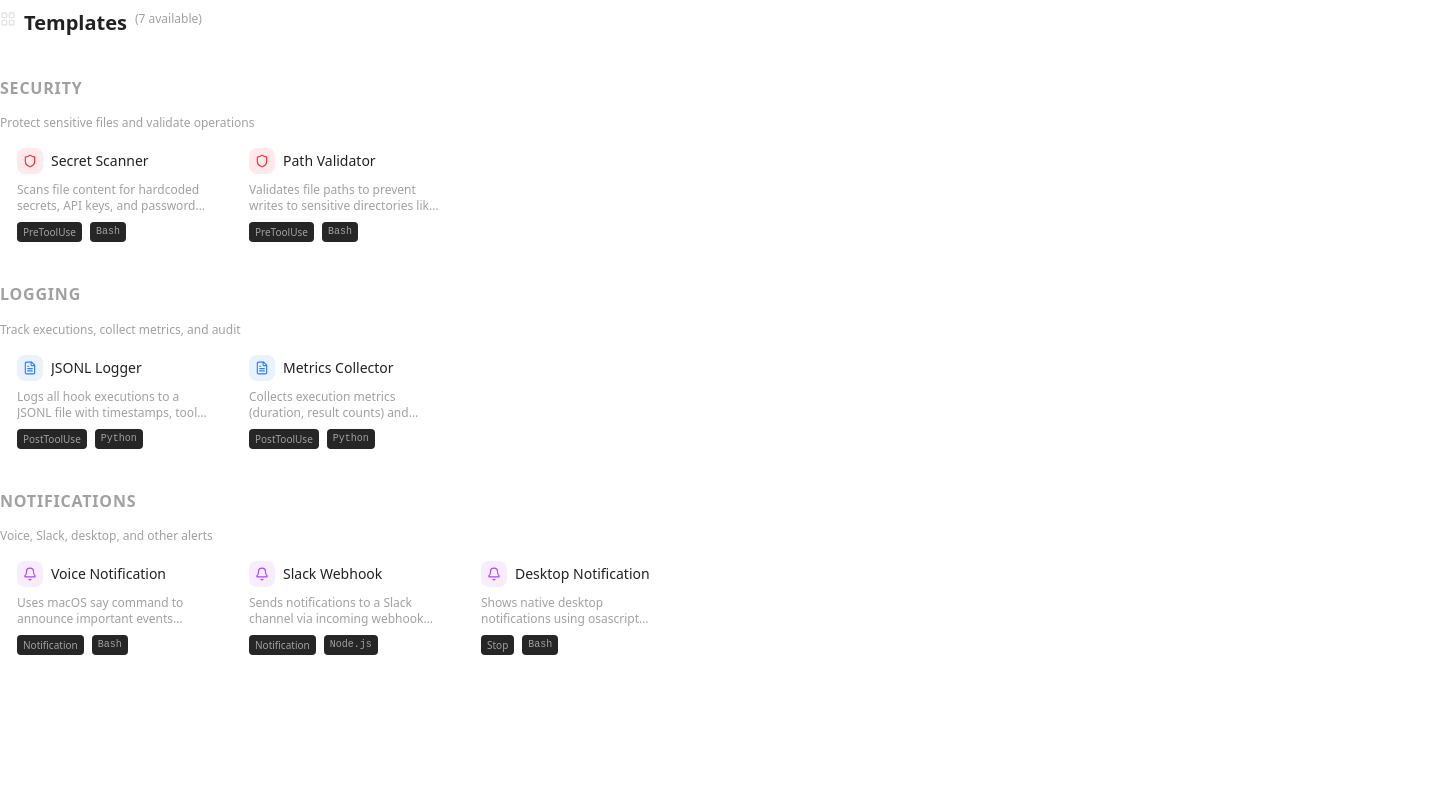
HookTemplatesGallery › should show config details in preview
The width and height of the screenshot is (1440, 795).
Click the text "Secret Scanner". click: x=100, y=161
box: x1=51 y1=151 x2=149 y2=171
(page scrolled)
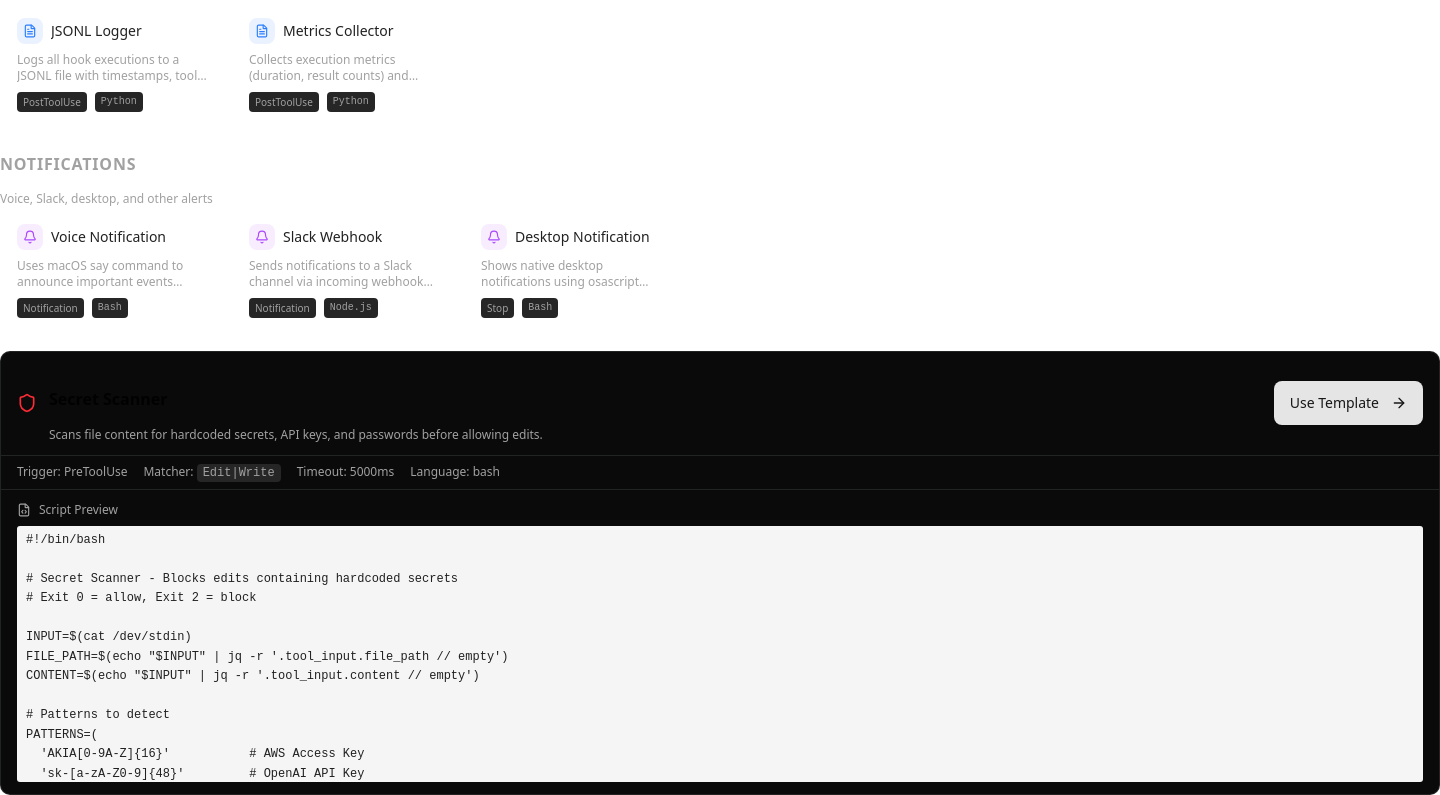
Expected: the text "Trigger:" is shown, x1=17 y1=463 x2=61 y2=480
Expected: the text "Matcher:" is shown, x1=143 y1=463 x2=194 y2=480
Expected: the text "Language:" is shown, x1=410 y1=463 x2=470 y2=480
